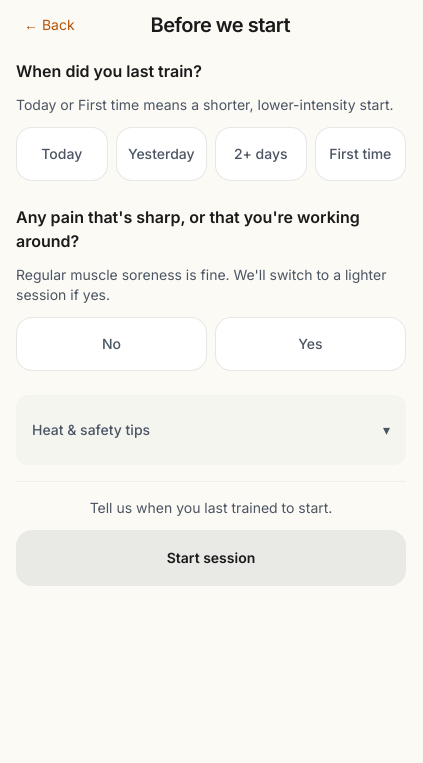
SafetyCheckScreen V0B-16 answer-first copy (C-3 Unit 4) › mentions focus only when pain recovery overrides an explicit focus
The image size is (423, 763).
Step 1. Click the radio button labelled "Yes" → (310, 344), box [215,317,406,371]
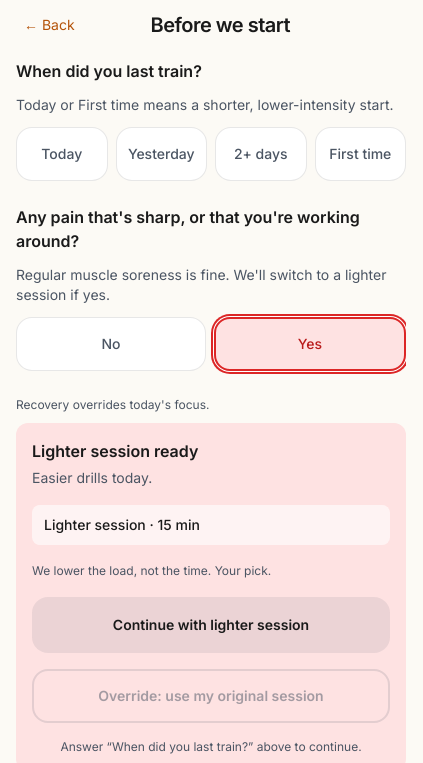
Check: the text "Recovery overrides today's focus." is shown, box [16,397,210,412]
